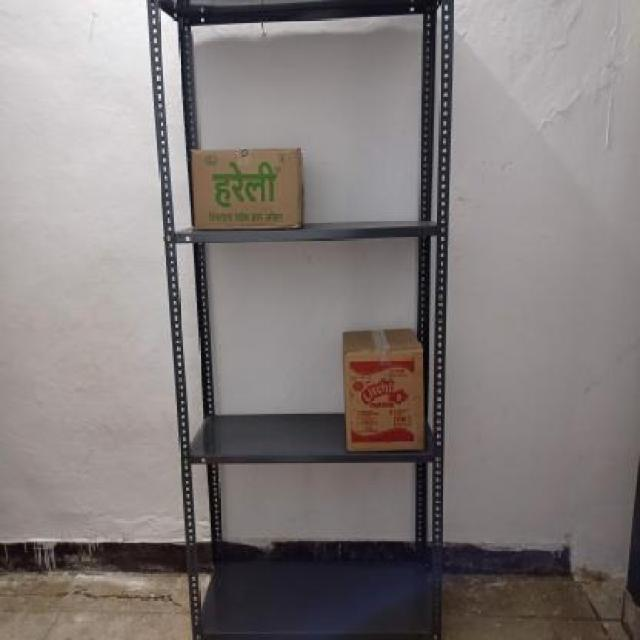box: (190, 149, 304, 229), (344, 350, 424, 455)
